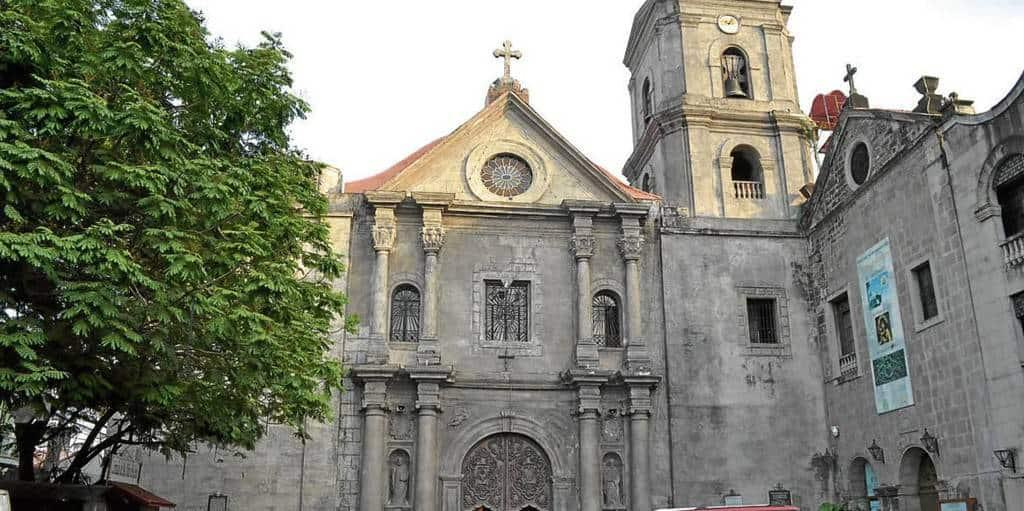Crack: (791, 255, 825, 316)
San Agustin Church: (342, 1, 832, 507)
